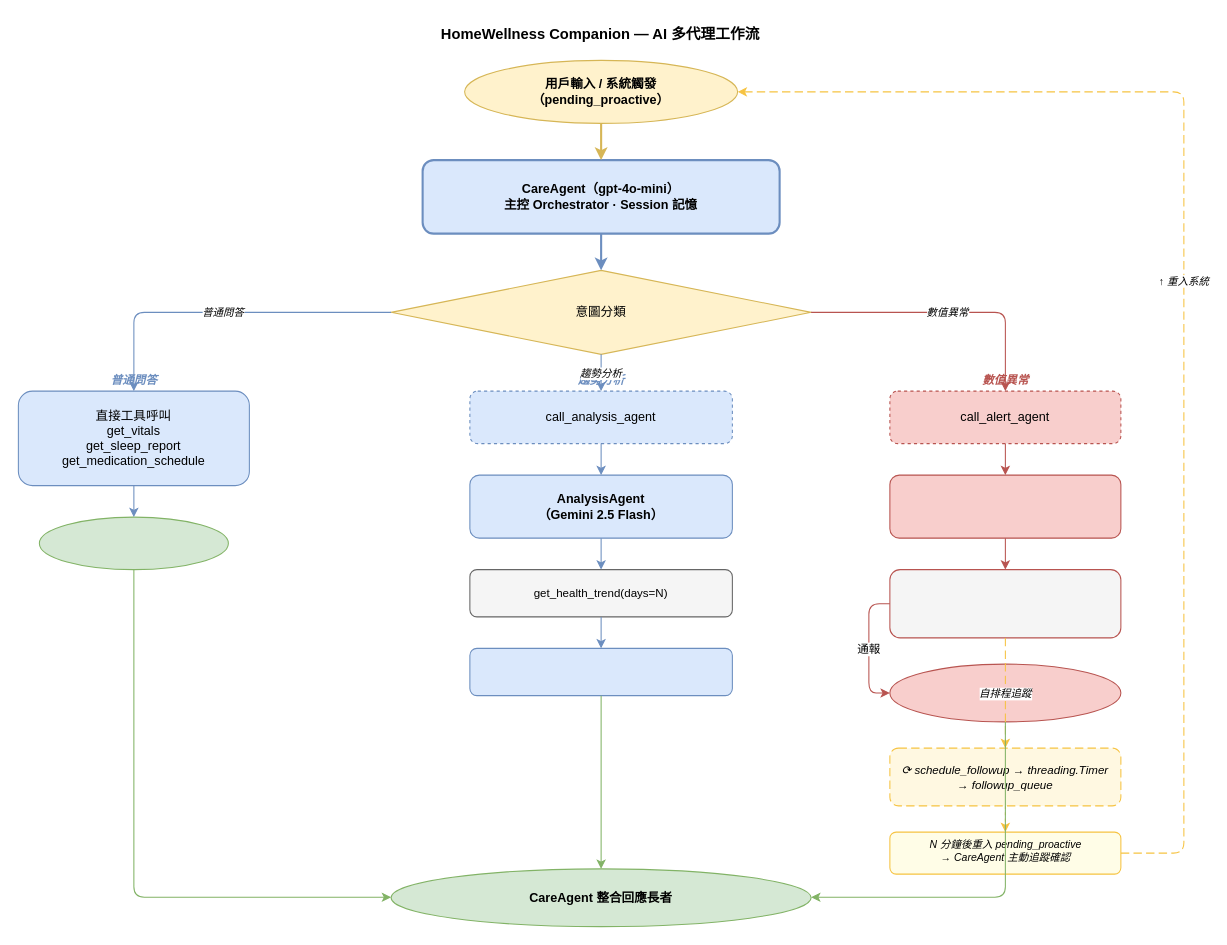
The diagram is 1227 pixels wide and 945 high, and some of its shapes have lost their labels. The shapes that lost their labels are listed below. From the top down, each one's centre as x and y in pixels, then its label:
At [1005,506]: "AlertAgent（gpt-4o-mini） 緊急評估與通報".
At [133,543]: "直接回應長者".
At [1005,603]: "get_vitals send_emergency_alert(reason) schedule_followup(reason)".
At [600,671]: "趨勢摘要 → 回傳 CareAgent".
At [1005,692]: "通報家屬 SMS / LINE Notify".
